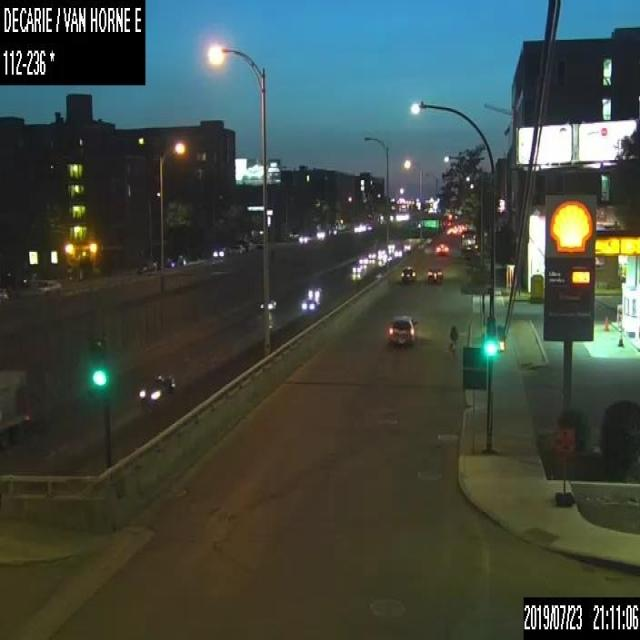construction: (552, 424, 574, 505), (617, 330, 622, 346), (604, 315, 608, 330)
pedestrian: (449, 324, 456, 355)
vehicle: (0, 368, 30, 453), (138, 370, 175, 402), (386, 315, 414, 344), (34, 278, 61, 294), (138, 256, 159, 276), (460, 229, 478, 252), (426, 265, 443, 283), (164, 254, 188, 266), (400, 265, 416, 281), (211, 244, 230, 257), (258, 298, 276, 310), (434, 241, 449, 255), (299, 298, 318, 309), (307, 286, 323, 298), (230, 244, 244, 253), (356, 255, 367, 263), (351, 263, 360, 272), (367, 251, 375, 259), (359, 262, 366, 268)
